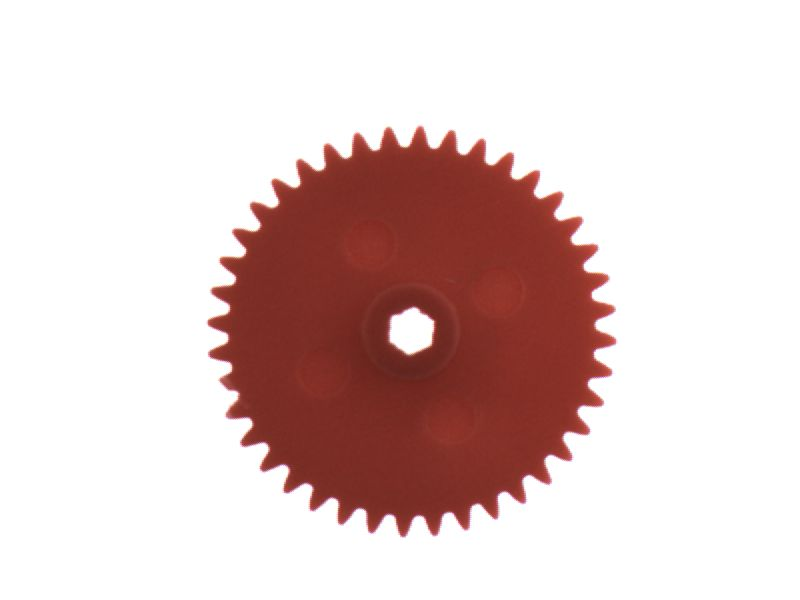defect_break: (201, 364, 247, 402)
